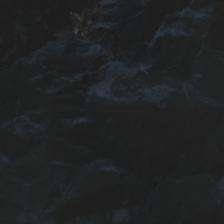landslides: (183, 83, 194, 103)
